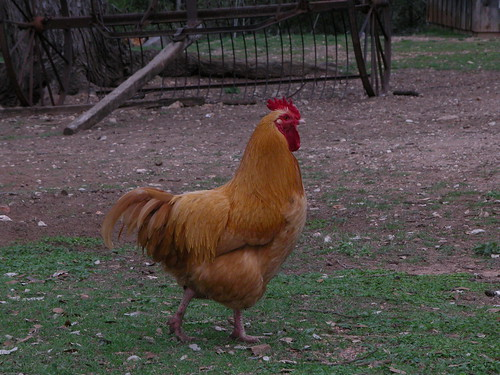chicken: (95, 91, 335, 351)
